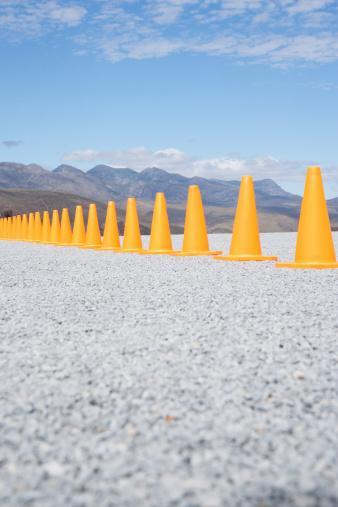Cone: (278, 168, 338, 268), (218, 175, 275, 260), (178, 182, 218, 257), (142, 192, 178, 255), (121, 196, 143, 255), (102, 201, 121, 250), (85, 203, 99, 248), (71, 205, 86, 246), (60, 208, 73, 246), (42, 210, 50, 243), (34, 212, 42, 243), (51, 208, 57, 245), (21, 214, 27, 241), (28, 213, 33, 240), (15, 214, 19, 239)
